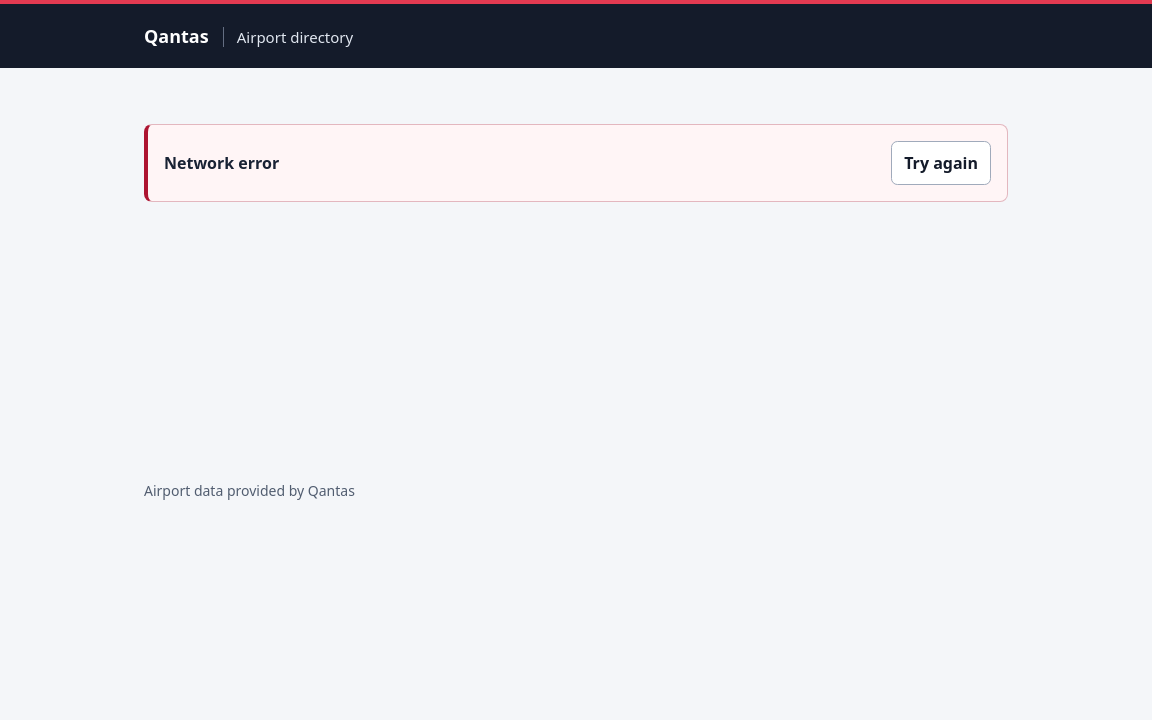
Test: recovers from a first-load failure with an explicit retry
Check: the message reads "Network error", box [164, 152, 279, 174]
Click the button "Try again" at {"x": 941, "y": 163}, box [891, 141, 991, 185]
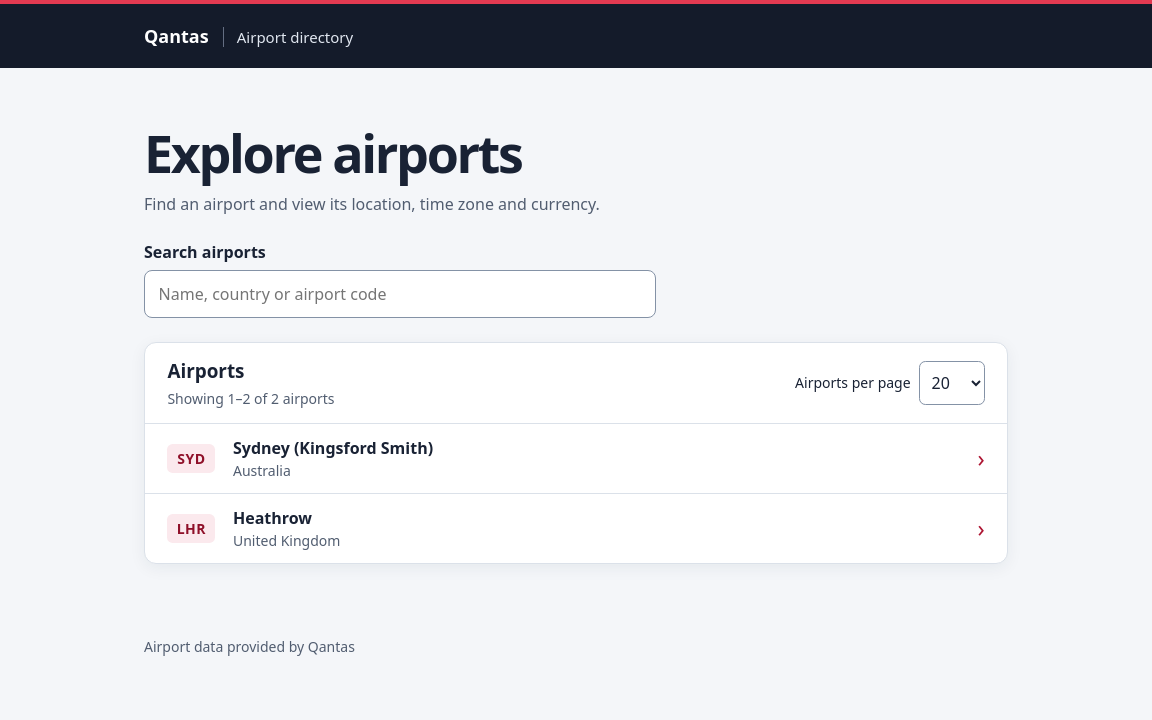
Check: the link "LHR Heathrow United Kingdom ›" is shown, box [145, 494, 1007, 563]
